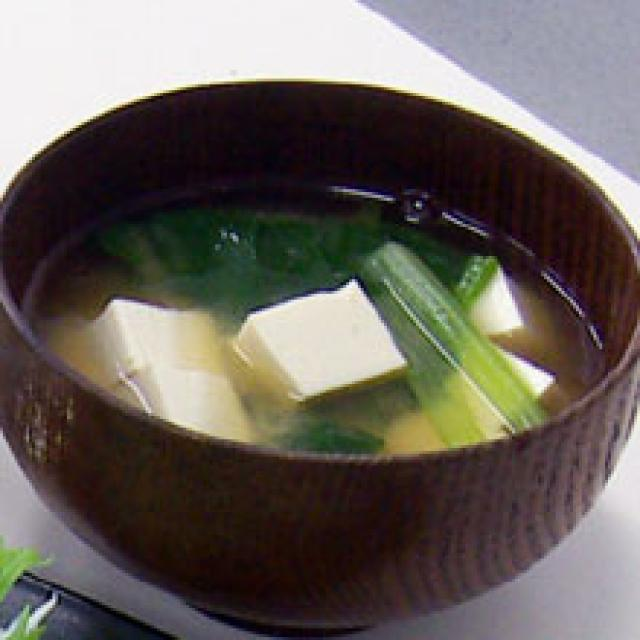汤锅炖物: (0, 67, 640, 640)
